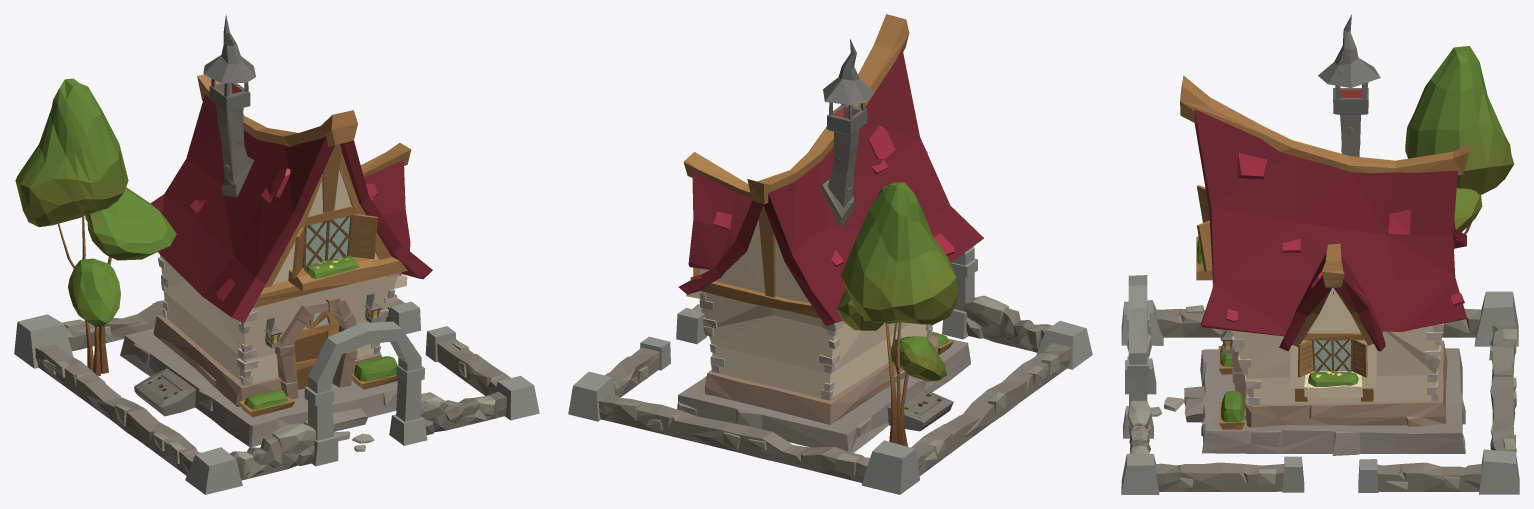
The model's file is house_4_high.FBX.
The picture shows the model from 3 angles, left to right: view 1: azimuth 30°, elevation 25°; view 2: azimuth 150°, elevation 25°; view 3: azimuth 270°, elevation 25°; orthographic projection. The views are drawn at different scales.
Visible parts, largest first — view 1: house_4_high, house_4_high_deng; view 2: house_4_high; view 3: house_4_high, house_4_high_deng.
Part boxes in pixels (bbox=[...]): house_4_high: bbox=[14, 14, 539, 494]; house_4_high_deng: bbox=[216, 83, 377, 342]; house_4_high: bbox=[568, 14, 1092, 494]; house_4_high: bbox=[1121, 14, 1519, 494]; house_4_high_deng: bbox=[1225, 89, 1362, 371].
Bounding box in the file's own units: 6.34 × 6.29 × 5.97.
